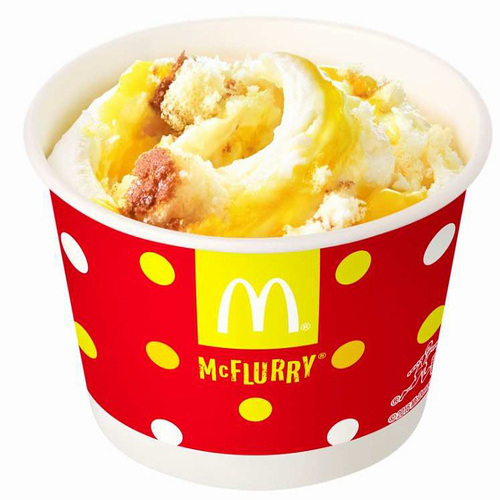mcdonalds: (209, 271, 302, 338)
